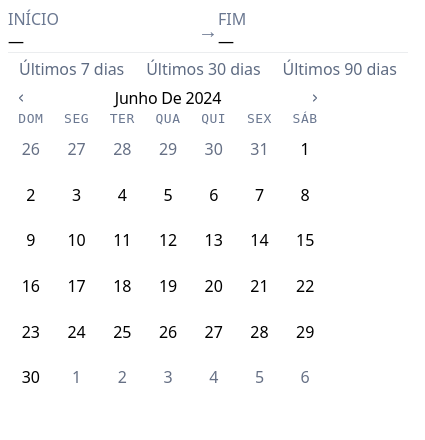
Test case: <DateRangePicker /> › a preset fills both start and end and renders a day count
This screenshot has width=425, height=440.
Click the button "Últimos 7 dias": click(72, 69) [8,53,135,85]
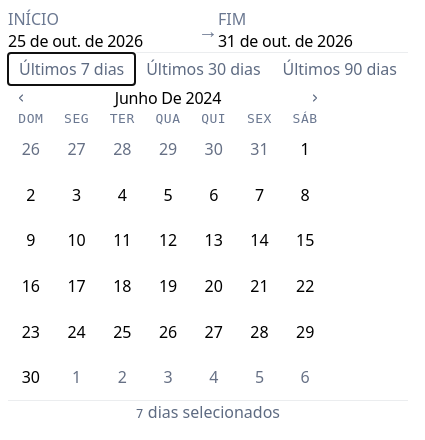
Now the text "7 dias selecionados" is shown, box [8,400,408,423]
